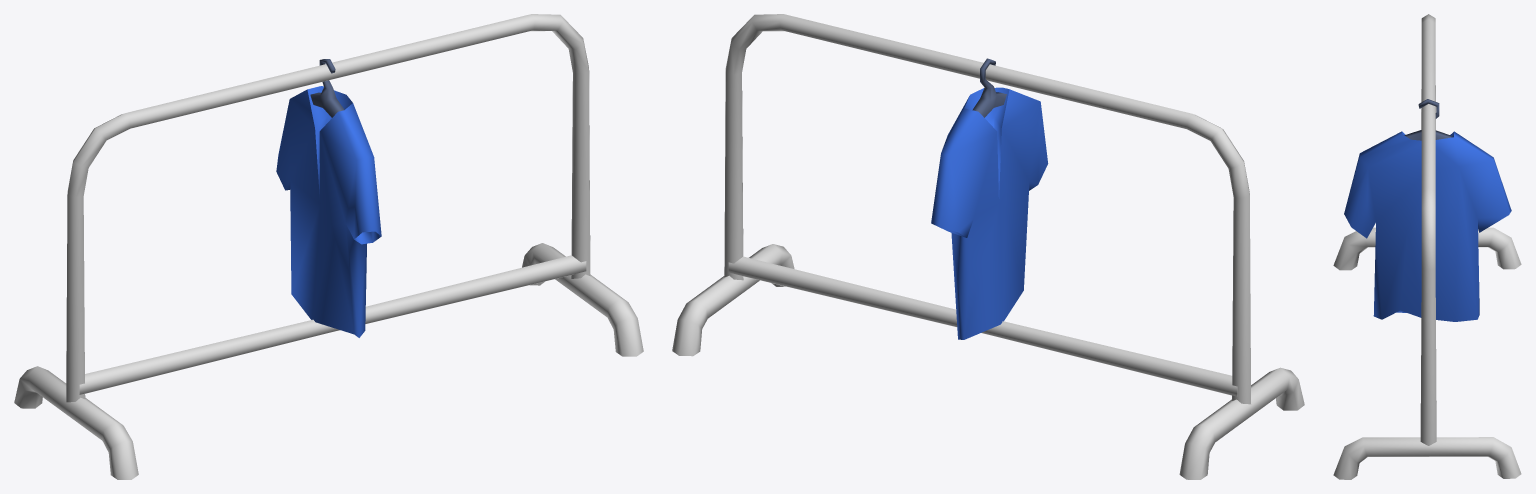
The model's file is hanger1.fbx.
The picture shows the model from 3 angles, left to right: view 1: azimuth 30°, elevation 25°; view 2: azimuth 150°, elevation 25°; view 3: azimuth 270°, elevation 25°; orthographic projection. The views are drawn at different scales.
Parts seen in each view (by area): view 1: Cylinder, shop_center_1_3553; view 2: Cylinder, shop_center_1_3553; view 3: shop_center_1_3553, Cylinder.
Boxes of the visible parts, x1,y1,x2,y2 form: Cylinder: (14, 14, 643, 479); shop_center_1_3553: (276, 59, 381, 337); Cylinder: (672, 14, 1304, 479); shop_center_1_3553: (931, 58, 1048, 339); shop_center_1_3553: (1344, 99, 1511, 321); Cylinder: (1333, 14, 1521, 479).
Size of the model in its own units: 4.93 by 2.86 by 1.8.
